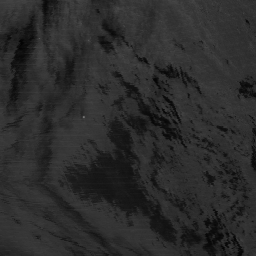Target: (80, 113, 86, 120)
